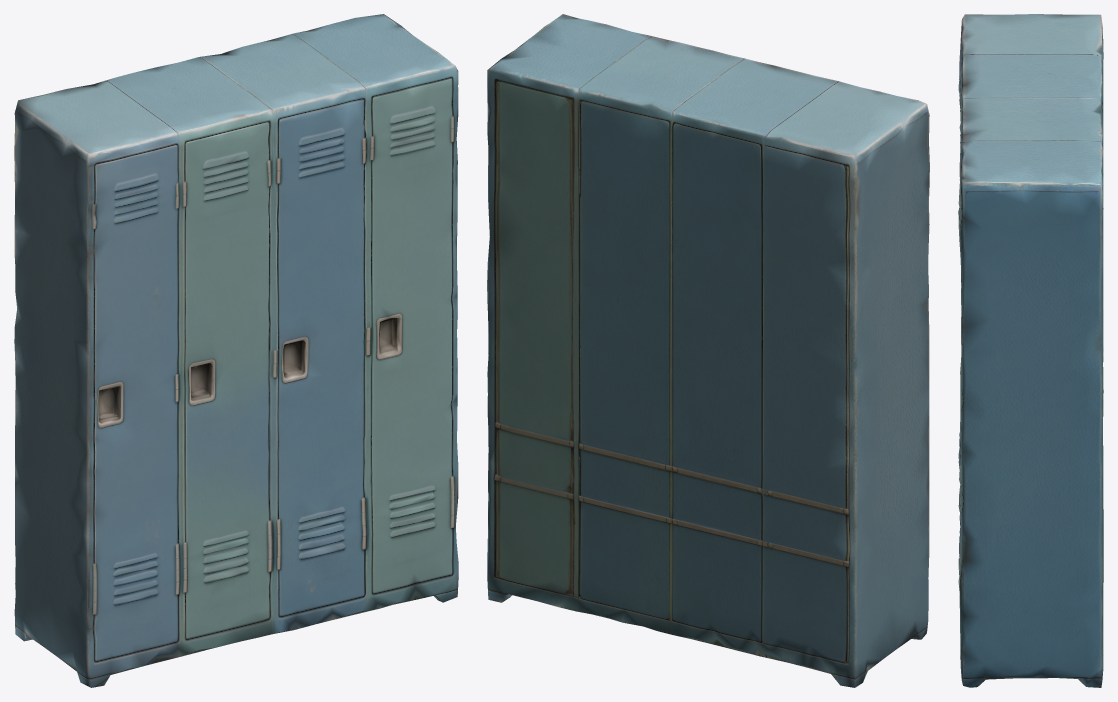
Rendered from VAR_PoolHall_Lockers.fbx.
The picture shows the model from 3 angles, left to right: view 1: azimuth 30°, elevation 25°; view 2: azimuth 150°, elevation 25°; view 3: azimuth 270°, elevation 25°; orthographic projection. The views are drawn at different scales.
Parts seen in each view (by area): view 1: texture_mapping; view 2: texture_mapping; view 3: texture_mapping.
Boxes of the visible parts, x1,y1,x2,y2 form: texture_mapping: (14, 14, 458, 687); texture_mapping: (487, 14, 929, 687); texture_mapping: (958, 14, 1103, 687).
Bounding box in the file's own units: 0.729 × 0.2614 × 1.
1 material, 1 textured.
